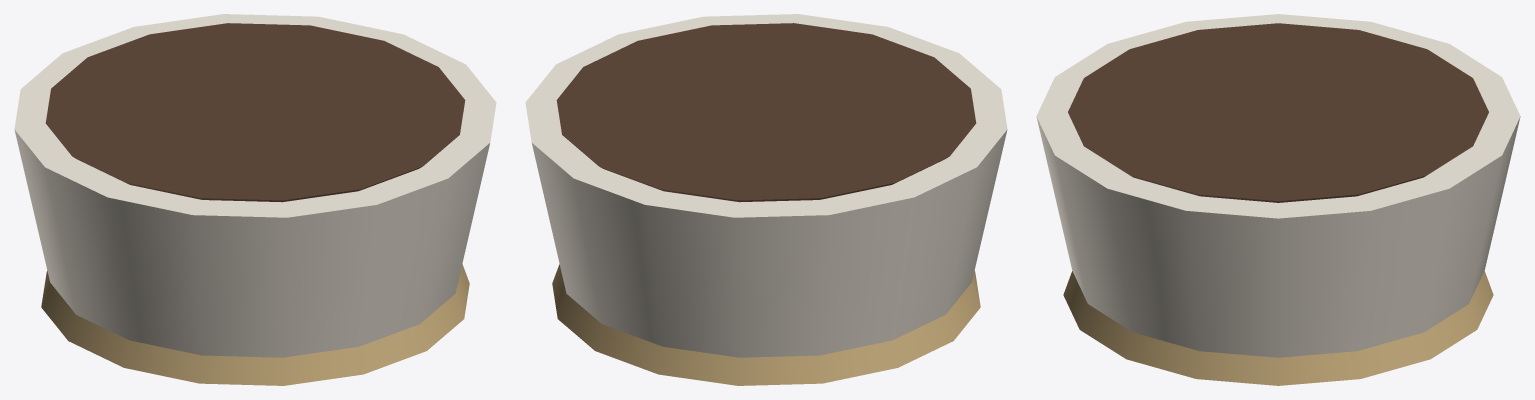
The model's file is SV_MP_SKU_04_v01_lod1.glb.
3 views of the same model, side by side, from view 1: azimuth 30°, elevation 25°; view 2: azimuth 150°, elevation 25°; view 3: azimuth 270°, elevation 25° (orthographic).
Parts seen in each view (by area): view 1: mproto_SV_MP_SKU_04_v01; view 2: mproto_SV_MP_SKU_04_v01; view 3: mproto_SV_MP_SKU_04_v01.
Boxes of the visible parts, x1,y1,x2,y2 form: mproto_SV_MP_SKU_04_v01: (14,14,496,385); mproto_SV_MP_SKU_04_v01: (525,14,1007,385); mproto_SV_MP_SKU_04_v01: (1036,14,1520,385).
Bounding box in the file's own units: 0.054 × 0.0225 × 0.054.
